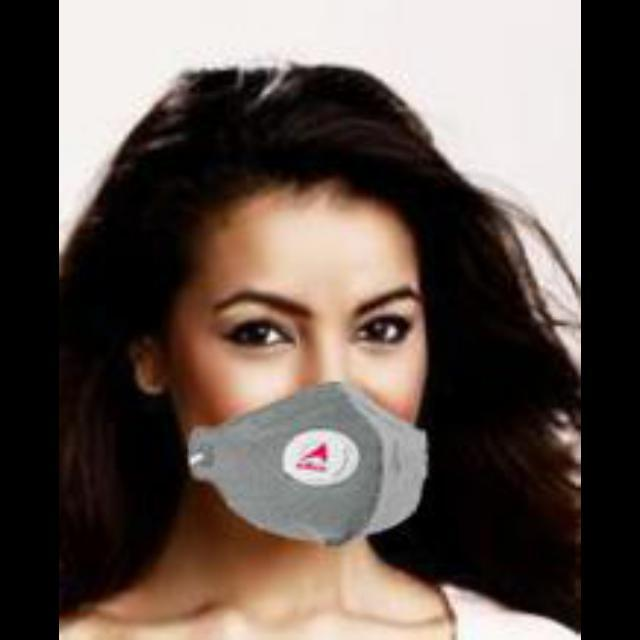suspicion: (132, 109, 480, 546)
